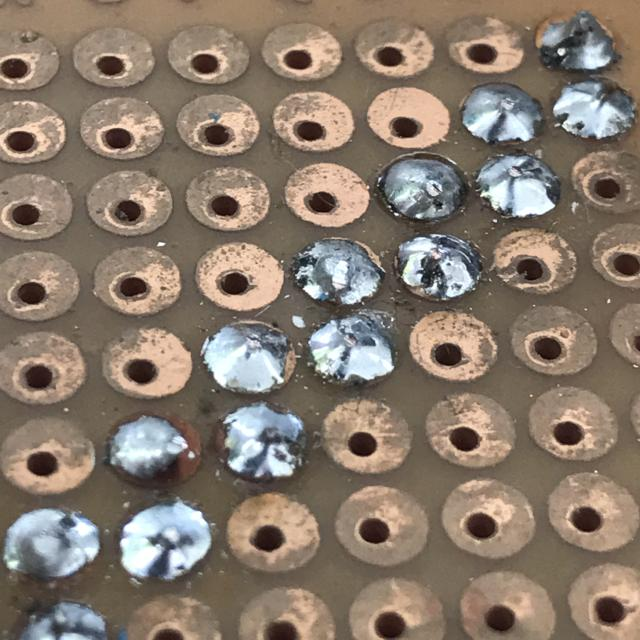good: (453, 72, 552, 159), (471, 146, 569, 225)
pad_less: (97, 398, 210, 499), (204, 394, 318, 491), (196, 310, 310, 404), (288, 229, 394, 313), (391, 226, 492, 308)
